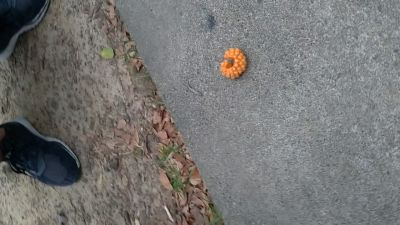eggs: (219, 47, 248, 81)
